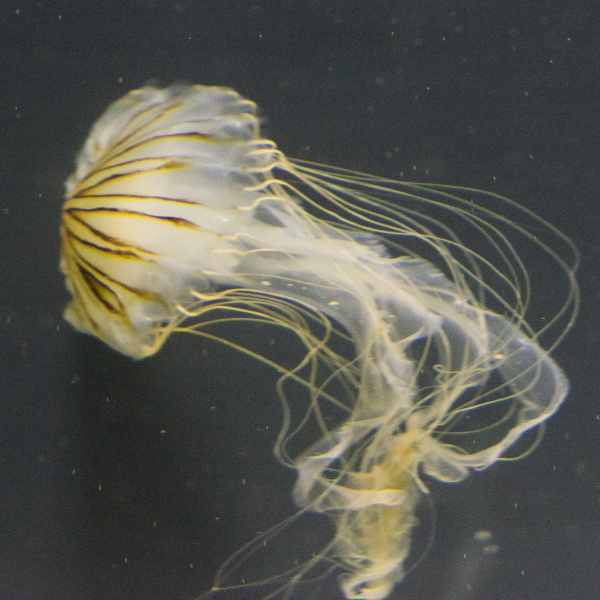Jellyfish: (57, 83, 584, 599)
